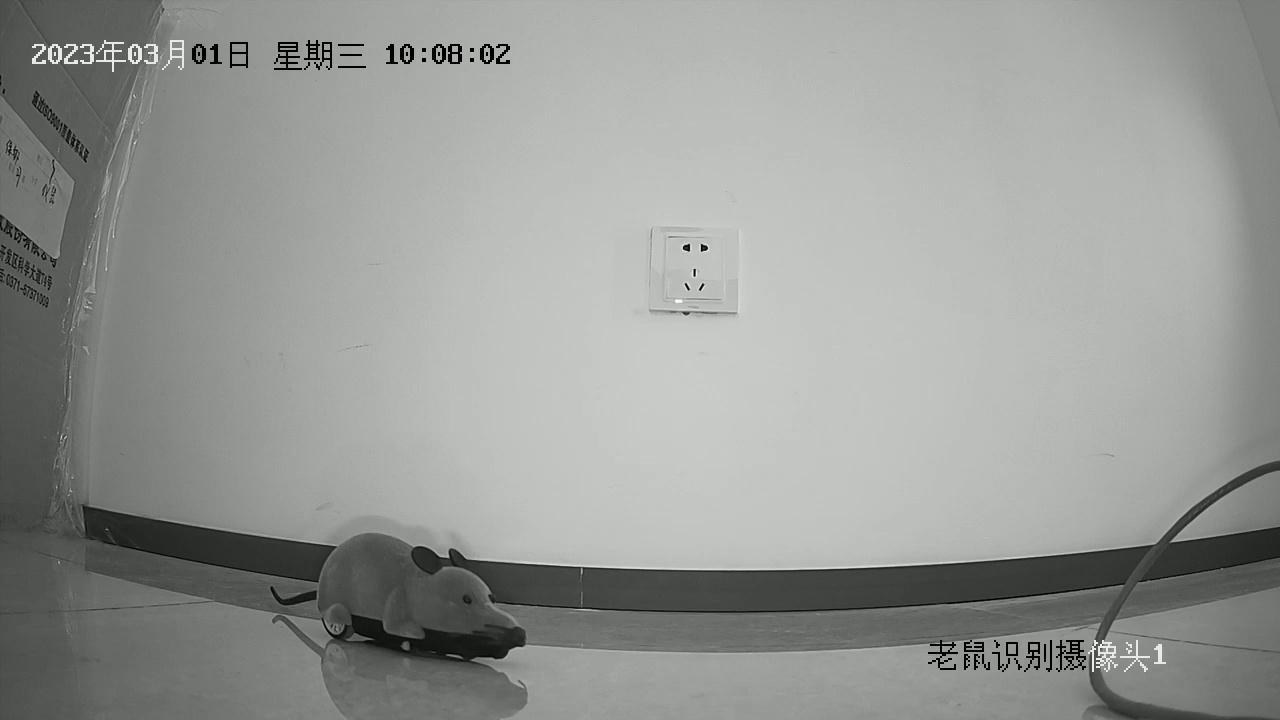rat: (269, 532, 527, 658)
